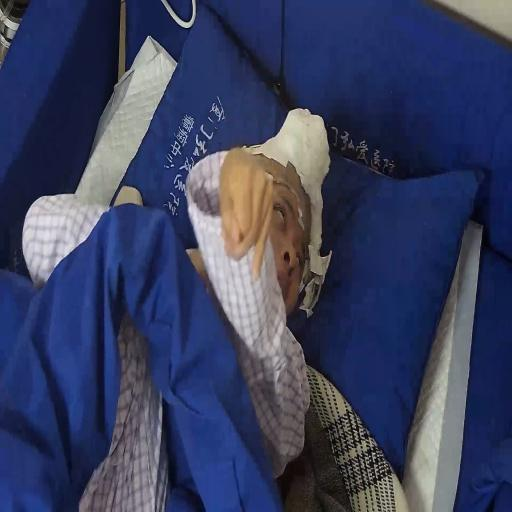Seizure: (249, 136, 319, 320)
